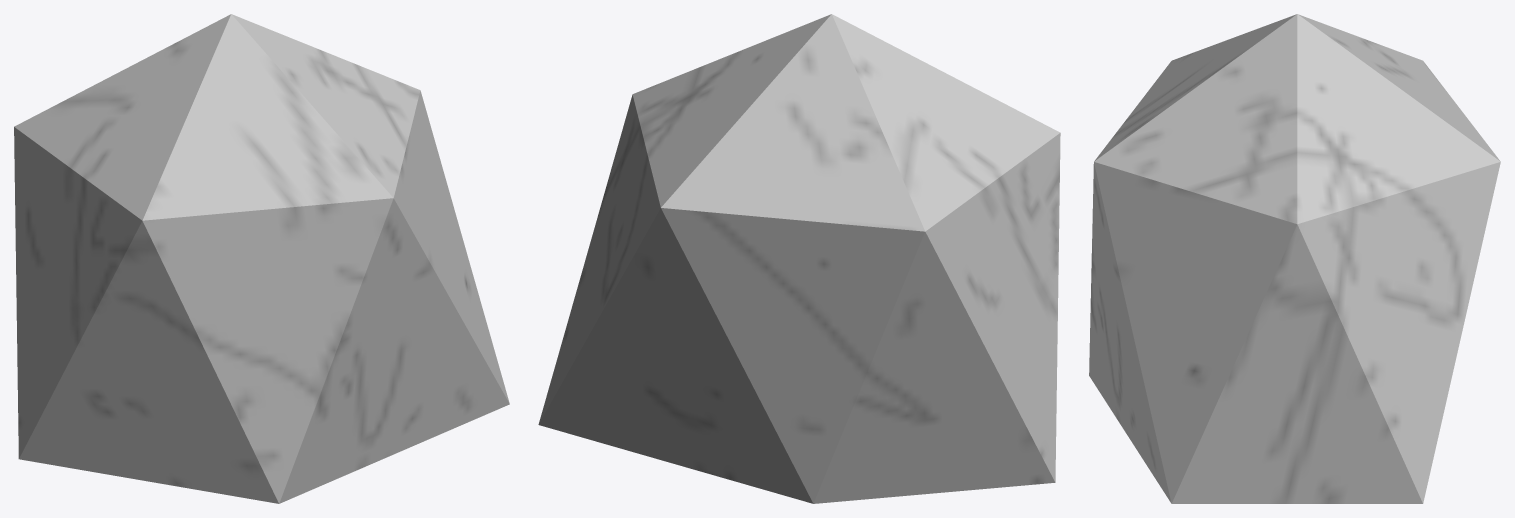
Rendered from rock_2.glb.
The picture shows the model from 3 angles, left to right: view 1: azimuth 30°, elevation 25°; view 2: azimuth 150°, elevation 25°; view 3: azimuth 270°, elevation 25°; orthographic projection. The views are drawn at different scales.
Visible parts, largest first — view 1: Icosphere.001; view 2: Icosphere.001; view 3: Icosphere.001.
Part boxes in pixels (left/top/right/bottom): Icosphere.001: left=14, top=14, right=509, bottom=503; Icosphere.001: left=538, top=14, right=1060, bottom=503; Icosphere.001: left=1089, top=14, right=1500, bottom=503.
Bounding box in the file's own units: 0.5133 × 0.4571 × 0.4378.
1 material, 1 textured.
